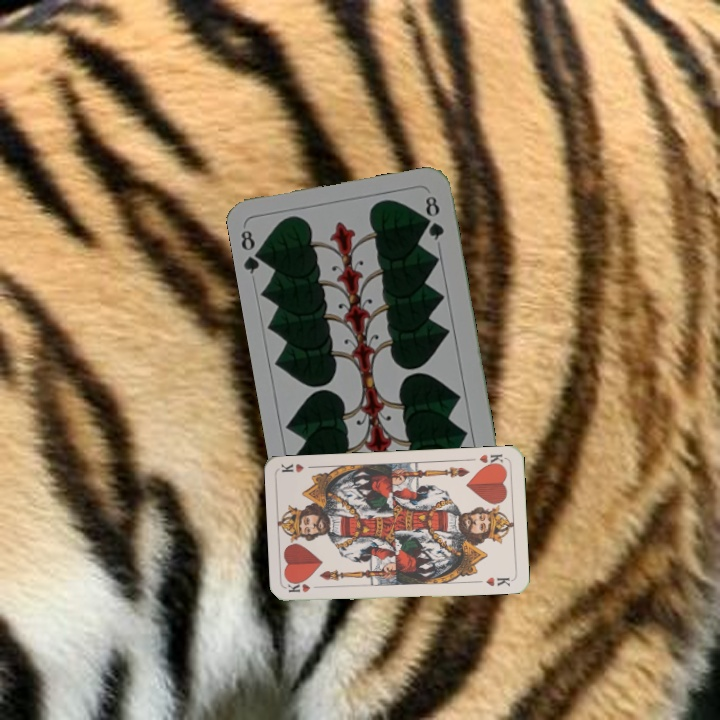G8: (236, 226, 268, 277)
HK: (284, 579, 325, 595), (476, 450, 506, 469)
